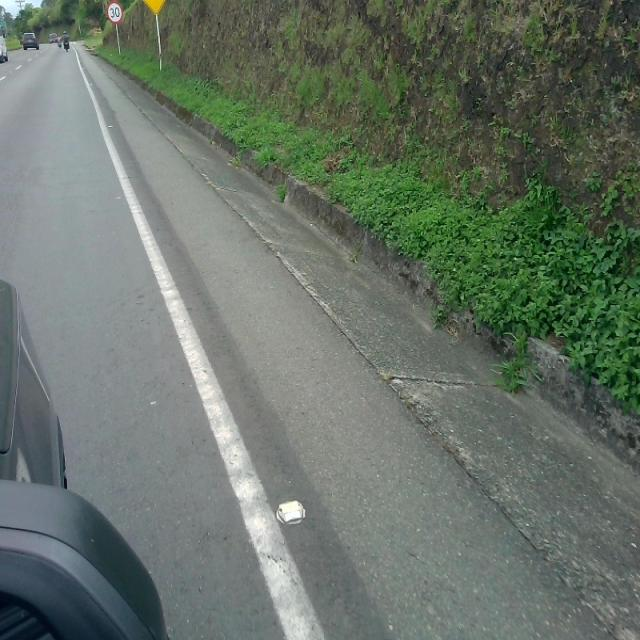DITCH: (28, 55, 638, 638), (71, 39, 638, 637)
